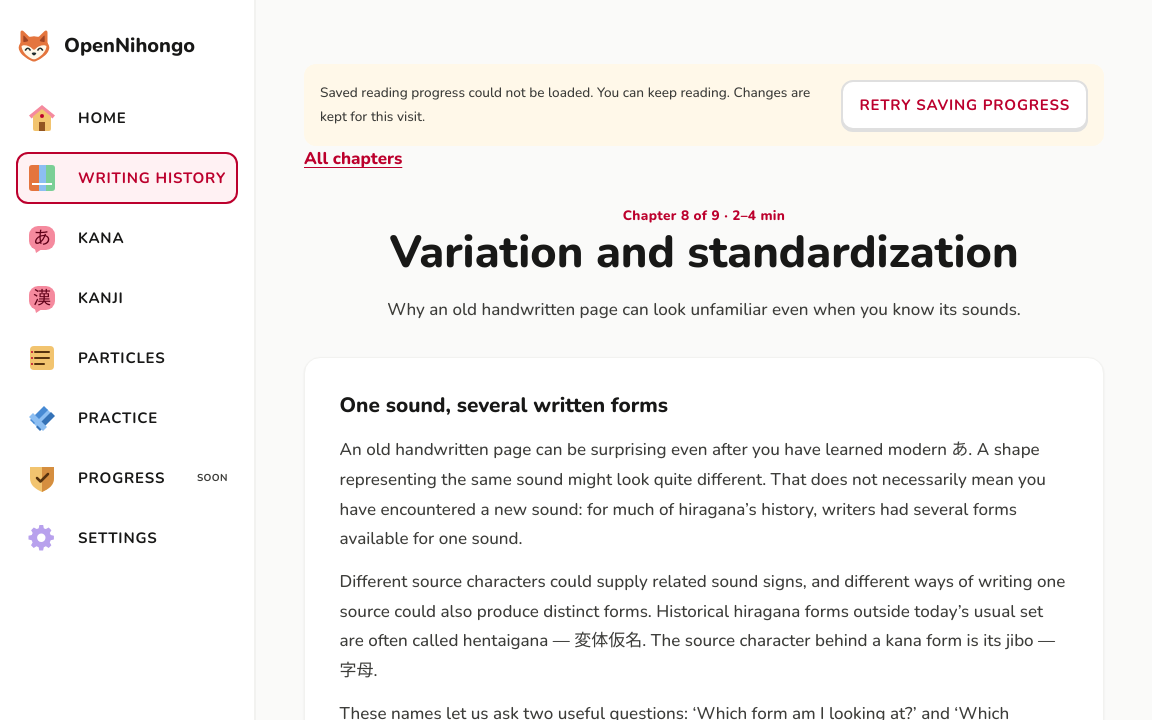
Test case: writing history reader › reports a failed initial load while allowing reading and restores it with Retry
Expected: the message is shown, [304, 64, 1104, 146]
Expected: the text "Saved reading progress could not be loaded" is shown, [320, 83, 593, 102]
What coordinates should you click on to do the following:
click the button "Retry saving progress"
I would click on:
 (965, 105)
Its box is [842, 80, 1088, 130].
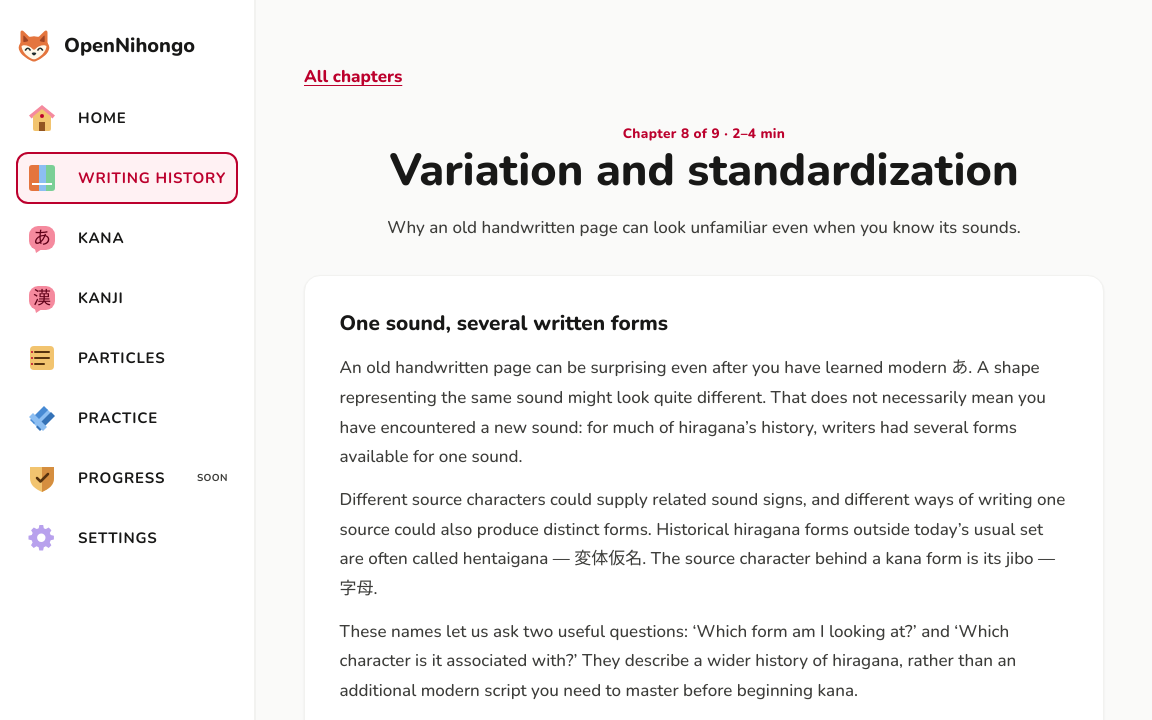
Result: the message is gone
What coordinates should you click on to do the following:
click the link "All chapters"
I would click on:
 (353, 76)
Its box is [304, 65, 402, 88].
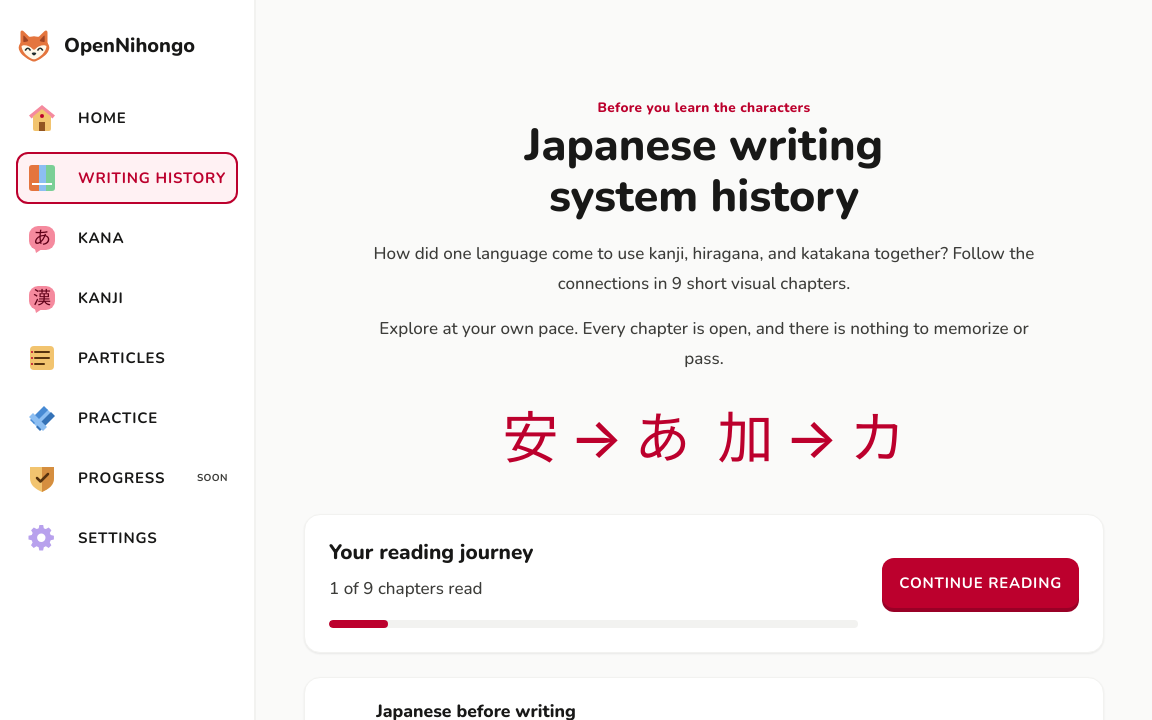
Result: the text "1 of 9 chapters read" is shown at [329, 577, 483, 600]
